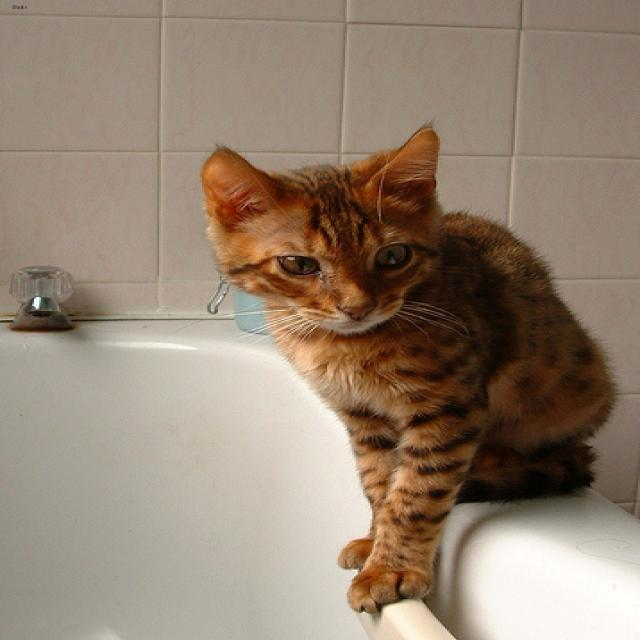Bengal: (195, 112, 468, 338)
